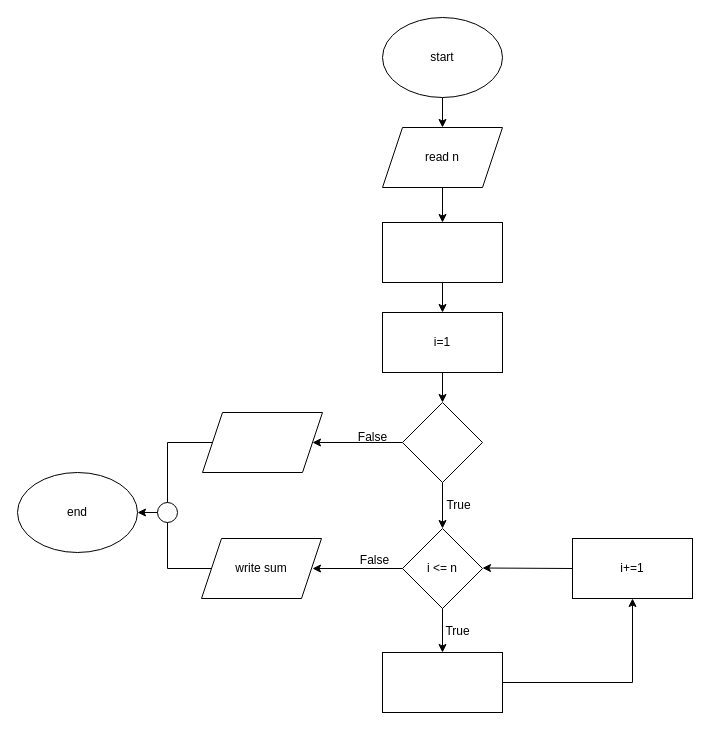
Some shapes in this 710 by 730 pixel diagram are drawn without their labels. The shapes that lost their labels are listed below. From the top down, each one's centre as x and y in pixels, then its label:
point 442,252: sum=0
point 262,442: write "errore"
point 442,442: n > 0 AND n%==1
point 442,682: sum= i*i+sum
